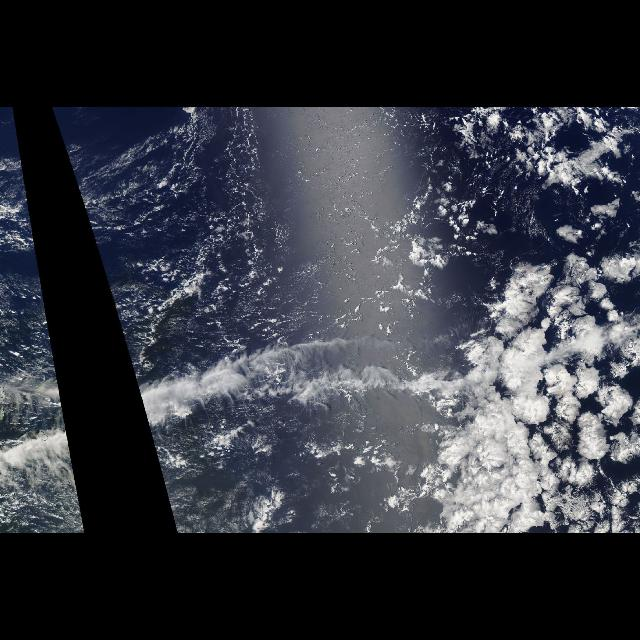Flower: (432, 249, 640, 533)
